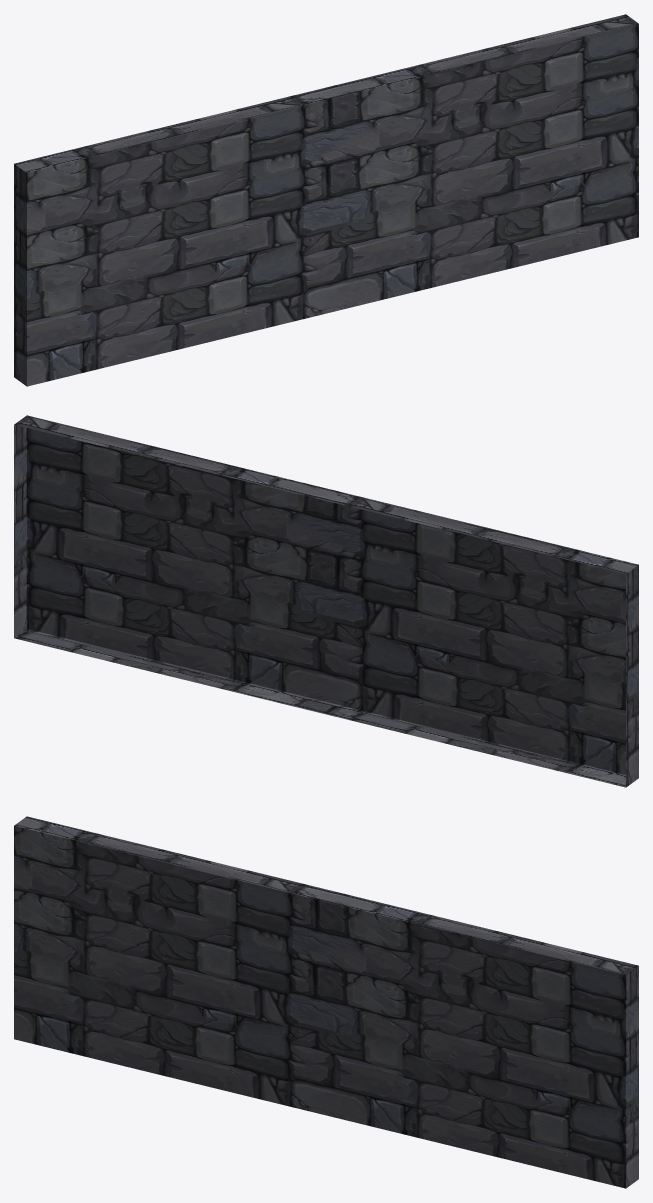
The model's file is Pared_30m.fbx.
3 renders of one model, top to bottom at view 1: azimuth 30°, elevation 25°; view 2: azimuth 150°, elevation 25°; view 3: azimuth 330°, elevation 25°, orthographic.
Visible parts, largest first — view 1: Pared1.2; view 2: Pared1.2; view 3: Pared1.2.
Boxes of the visible parts, box(x1,y1,x2,y2) form: Pared1.2: box(14, 14, 638, 386); Pared1.2: box(14, 415, 638, 787); Pared1.2: box(14, 816, 638, 1188).
Size of the model in its own units: 30 by 10 by 1.1.
